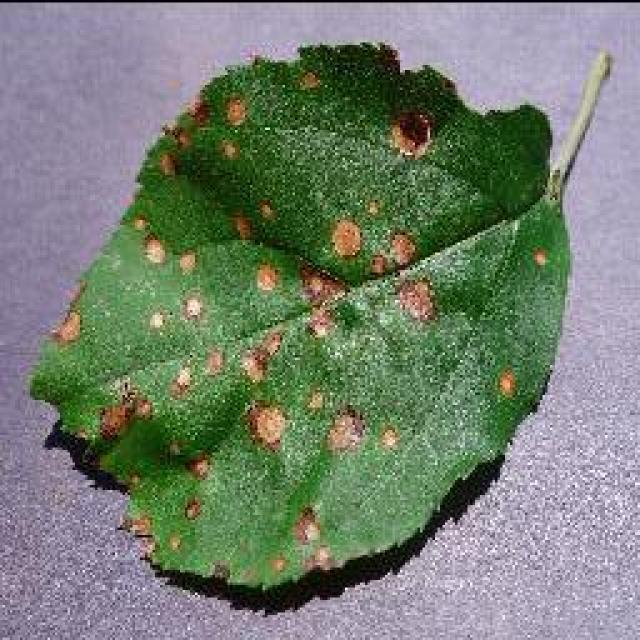Black_rot: (28, 38, 612, 598)
